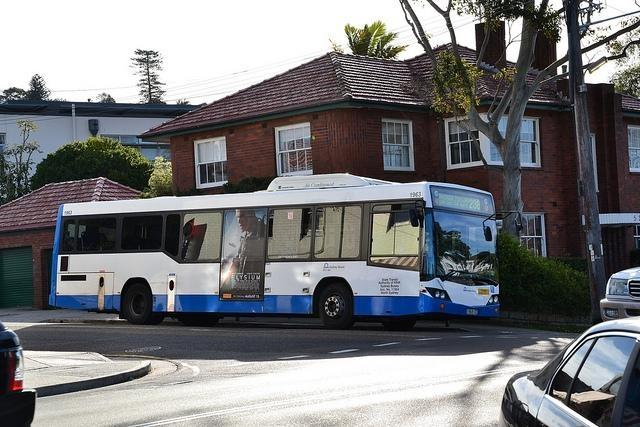bus: (52, 180, 501, 328)
car: (500, 314, 640, 421), (0, 324, 37, 425), (600, 266, 640, 323)
truck: (599, 266, 640, 321)
